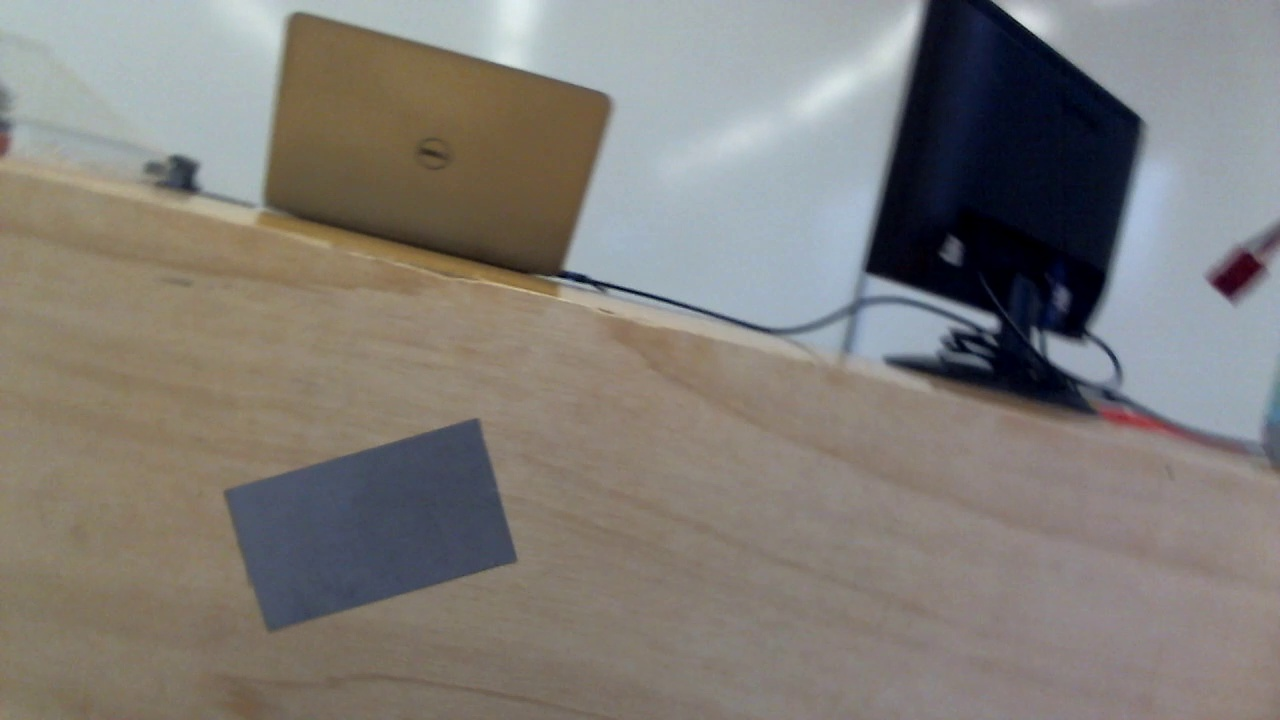Tape: (226, 418, 523, 632)
